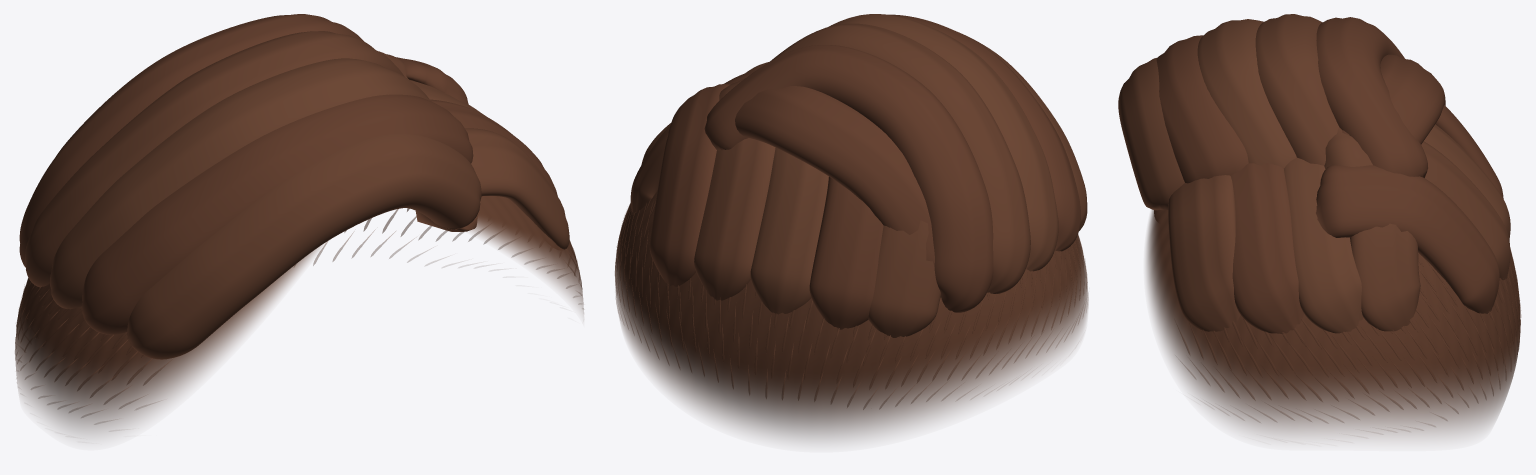
The model's file is hair-taper-grooved.glb.
The picture shows the model from 3 angles, left to right: view 1: azimuth 30°, elevation 25°; view 2: azimuth 150°, elevation 25°; view 3: azimuth 270°, elevation 25°; orthographic projection. The views are drawn at different scales.
Parts seen in each view (by area): view 1: Hair / Taper top 0, Hair / Taper short sides, Hair / Taper top 1, Hair / Taper top 2, Hair / Taper top 3, Hair / Taper top 4, Hair / Taper short sweep 0, Hair / Taper fine direction, Hair / Taper short sweep 1, Hair / Taper crown 4; view 2: Hair / Taper short sides, Hair / Taper top 4, Hair / Taper rear bridge, Hair / Taper top 3, Hair / Taper top 2, Hair / Taper crown 3, Hair / Taper crown 2, Hair / Taper crown 4, Hair / Taper fine direction, Hair / Taper crown 1, Hair / Taper crown 0, Hair / Taper top 1 (+2 smaller); view 3: Hair / Taper short sides, Hair / Taper crown 4, Hair / Taper top 4, Hair / Taper short sweep 1, Hair / Taper short sweep 0, Hair / Taper top 3, Hair / Taper short sweep 2, Hair / Taper top 1, Hair / Taper top 2, Hair / Taper fine direction, Hair / Taper top 0, Hair / Taper short sweep 3 (+4 smaller).
Boxes of the visible parts, x1,y1,x2,y2 form: Hair / Taper top 0: (127, 133, 481, 359); Hair / Taper short sides: (15, 196, 583, 435); Hair / Taper top 1: (82, 94, 473, 334); Hair / Taper top 2: (50, 58, 431, 309); Hair / Taper top 3: (25, 31, 404, 287); Hair / Taper top 4: (19, 14, 364, 267); Hair / Taper short sweep 0: (465, 128, 569, 249); Hair / Taper fine direction: (15, 208, 582, 424); Hair / Taper short sweep 1: (430, 99, 557, 196); Hair / Taper crown 4: (395, 57, 468, 104); Hair / Taper short sides: (615, 190, 1087, 440); Hair / Taper top 4: (704, 45, 993, 312); Hair / Taper rear bridge: (735, 86, 934, 265); Hair / Taper top 3: (770, 23, 1030, 293); Hair / Taper top 2: (828, 14, 1058, 271); Hair / Taper crown 3: (694, 78, 775, 300); Hair / Taper crown 2: (750, 148, 828, 314); Hair / Taper crown 4: (649, 84, 729, 286); Hair / Taper fine direction: (615, 200, 1088, 409); Hair / Taper crown 1: (809, 176, 883, 329); Hair / Taper crown 0: (868, 220, 940, 337); Hair / Taper top 1: (889, 14, 1080, 251); Hair / Taper short sides: (1146, 210, 1520, 437); Hair / Taper crown 4: (1316, 165, 1499, 313); Hair / Taper top 4: (1316, 17, 1427, 177); Hair / Taper short sweep 1: (1230, 163, 1303, 333); Hair / Taper short sweep 0: (1168, 175, 1240, 331); Hair / Taper top 3: (1255, 14, 1339, 165); Hair / Taper short sweep 2: (1284, 157, 1363, 333); Hair / Taper top 1: (1156, 35, 1248, 183); Hair / Taper top 2: (1197, 19, 1296, 168); Hair / Taper fine direction: (1176, 248, 1521, 430); Hair / Taper top 0: (1118, 58, 1184, 218); Hair / Taper short sweep 3: (1350, 223, 1420, 331).
Bounding box in the file's own units: 0.9745 × 0.7807 × 0.753.
